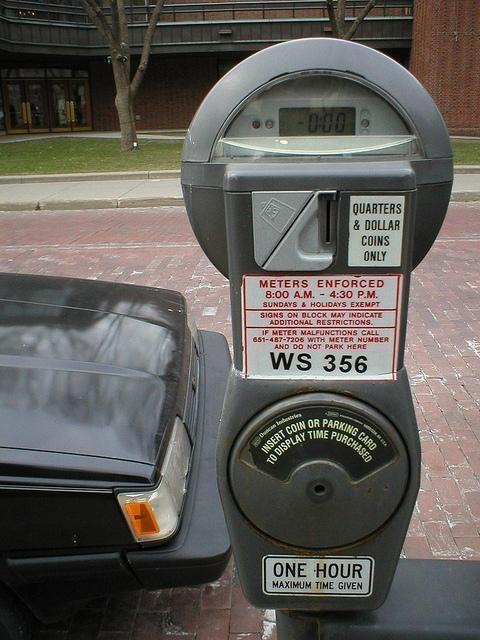car: (1, 250, 226, 622)
